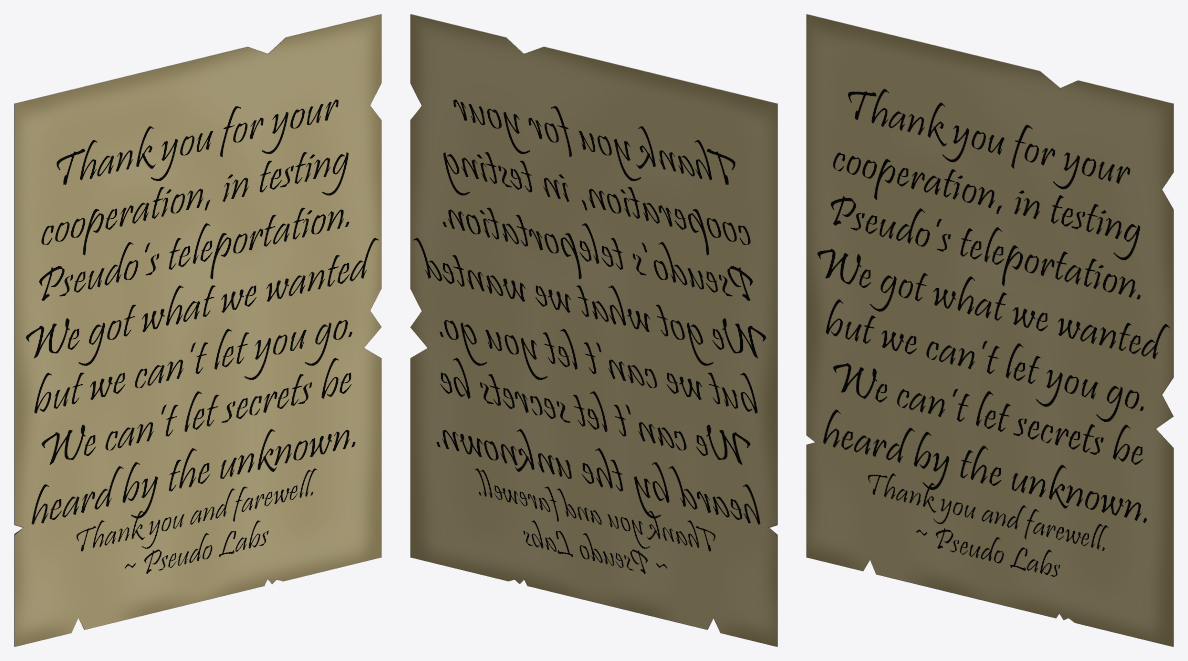
File: p_note_7.fbx
The picture shows the model from 3 angles, left to right: view 1: azimuth 30°, elevation 25°; view 2: azimuth 150°, elevation 25°; view 3: azimuth 330°, elevation 25°; orthographic projection.
Visible parts, largest first — view 1: pCube1; view 2: pCube1; view 3: pCube1.
Boxes of the visible parts, x1=… form: pCube1: x1=14, y1=14, x2=381, y2=646; pCube1: x1=410, y1=14, x2=777, y2=646; pCube1: x1=806, y1=14, x2=1173, y2=646.
Size of the model in its own units: 42 by 59.4 by 0.1135.
